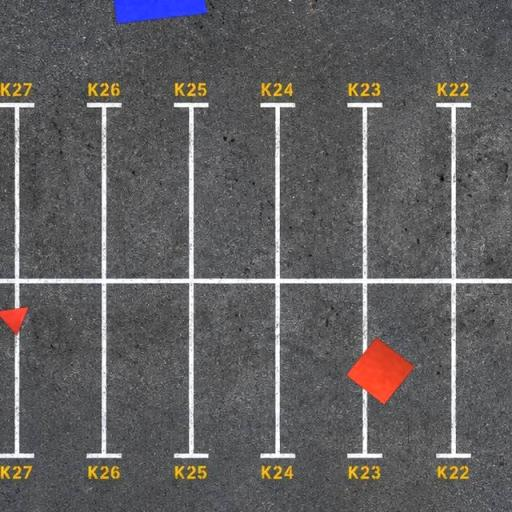RED_SQUARE: (346, 336, 415, 406)
